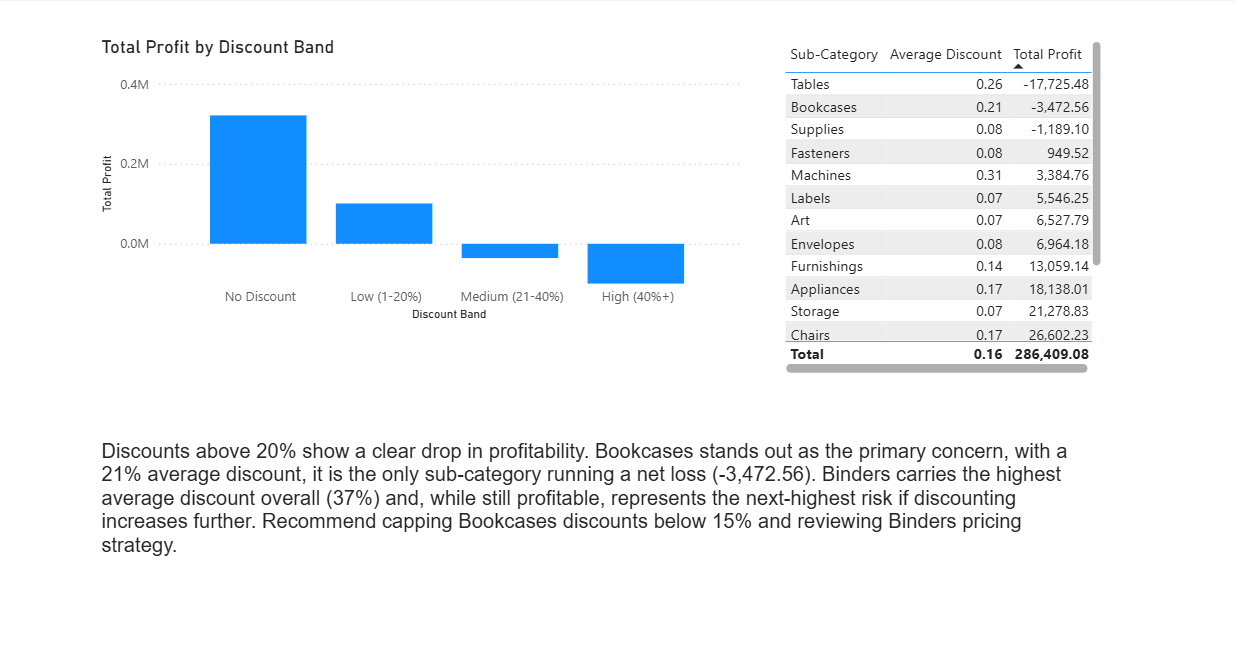

The page's visual inventory and layout, read from the dashboard file:
{"tool":"powerbi","page":{"name":"Ad Hoc Analysis","canvas":[1280,720],"ordinal":2},"visuals":[{"type":"clusteredColumnChart","fields":{"Category":["Fact_Sales.Discount Band"],"Y":["_Measures.Total Profit"]},"box":[9.8,31.8,599.2,267.8],"z":0},{"type":"tableEx","fields":{"Values":["Dim_Product.Sub-Category","_Measures.Average Discount","_Measures.Total Profit"]},"box":[639.5,31.8,303.3,316.7],"z":1000},{"type":"textbox","box":[9.8,401.1,917.1,162.6],"z":2000}]}

Visuals, with their boxes on the page's 1280x720 design canvas (x1, y1, x2, y2). These are canvas units, not pixel positions in the 1236x652 screenshot, which may show the page scaled, cropped or inside an application window:
clusteredColumnChart - Fact_Sales.Discount Band x _Measures.Total Profit: rect(10, 32, 609, 300)
tableEx - Dim_Product.Sub-Category x _Measures.Average Discount: rect(640, 32, 943, 348)
textbox: rect(10, 401, 927, 564)
